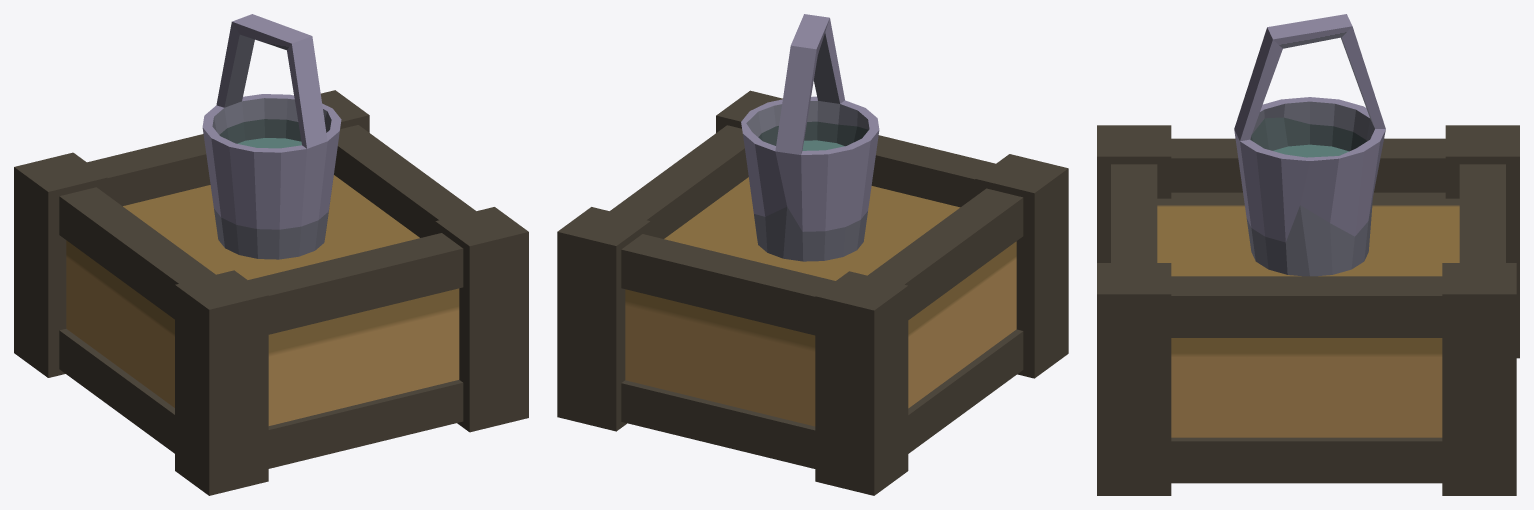
Rendered from Water_prop.fbx.
The picture shows the model from 3 angles, left to right: view 1: azimuth 30°, elevation 25°; view 2: azimuth 150°, elevation 25°; view 3: azimuth 270°, elevation 25°; orthographic projection. The views are drawn at different scales.
Parts seen in each view (by area): view 1: Water Prop; view 2: Water Prop; view 3: Water Prop.
Part boxes in pixels (bbox=[...]): Water Prop: bbox=[14, 14, 528, 495]; Water Prop: bbox=[557, 14, 1068, 495]; Water Prop: bbox=[1097, 14, 1519, 495].
Bounding box in the file's own units: 216 × 230 × 228.
